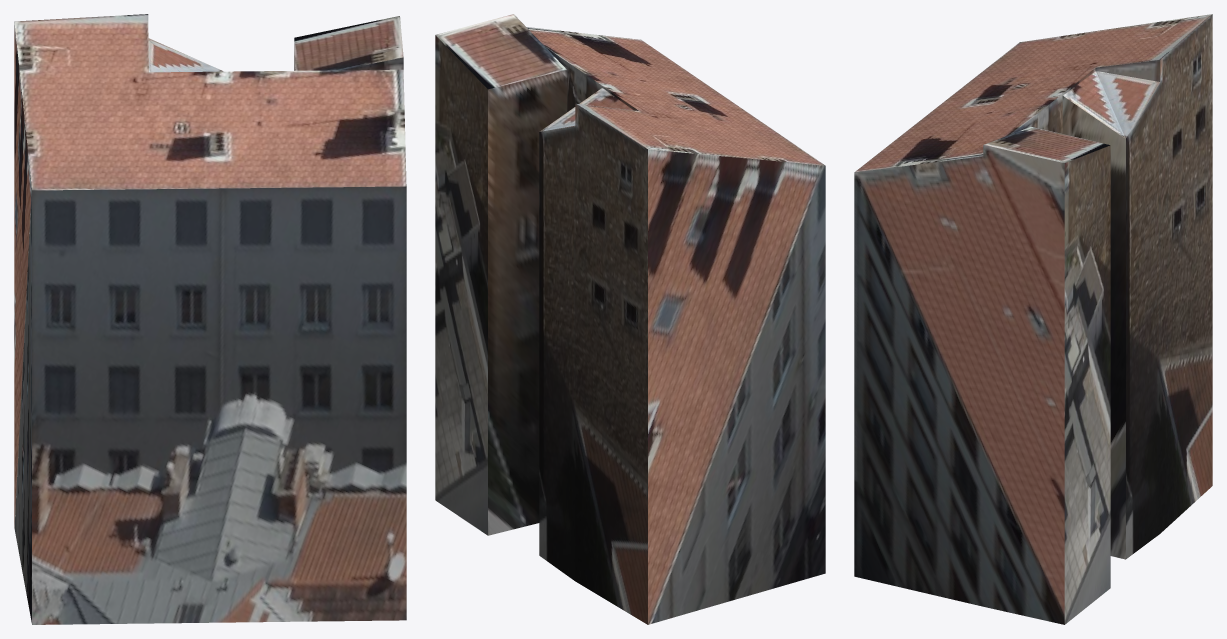
3 views of the same model, side by side, from view 1: azimuth 30°, elevation 25°; view 2: azimuth 150°, elevation 25°; view 3: azimuth 270°, elevation 25° (orthographic). The views are drawn at different scales.
Visible parts, largest first — view 1: Z_UP; view 2: Z_UP; view 3: Z_UP.
Boxes of the visible parts, <box> form: Z_UP: <box>14,14,406,624</box>; Z_UP: <box>435,14,825,624</box>; Z_UP: <box>854,14,1212,624</box>.
Size of the model in its own units: 19.28 by 23.92 by 16.4.
Materials: 2 (1 with a texture image).
